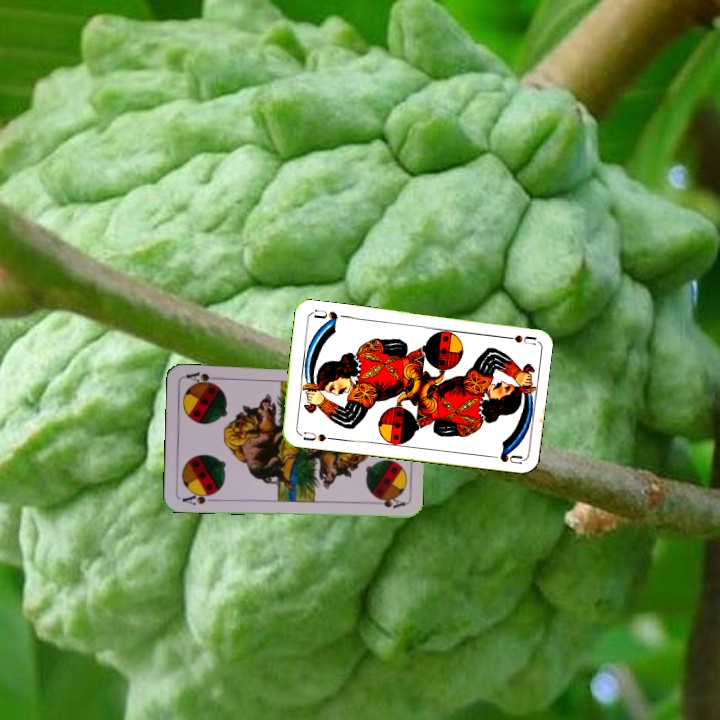SA: (178, 488, 218, 508)
SU: (295, 427, 335, 444), (496, 331, 537, 347)
